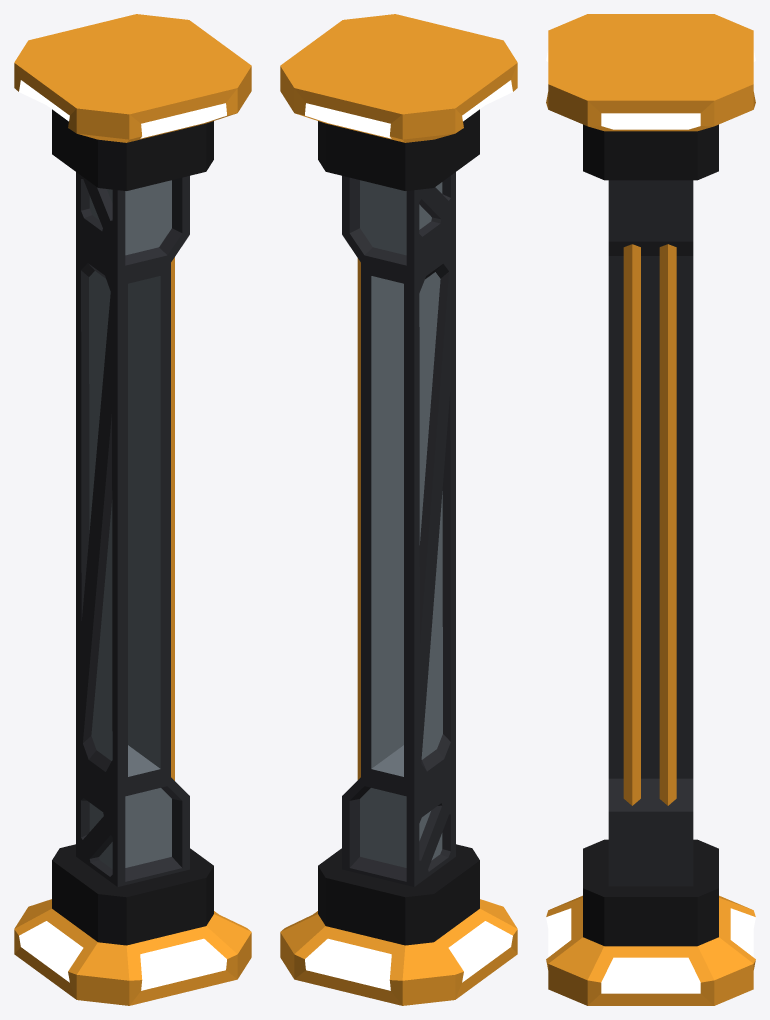
Rendered from SM_Pillar.glb.
3 renders of one model, left to right at view 1: azimuth 30°, elevation 25°; view 2: azimuth 150°, elevation 25°; view 3: azimuth 270°, elevation 25°, orthographic.
Visible parts, largest first — view 1: SM_Pillar; view 2: SM_Pillar; view 3: SM_Pillar.
Boxes of the visible parts, x1,y1,x2,y2 form: SM_Pillar: (14,14,251,1005); SM_Pillar: (280,14,517,1005); SM_Pillar: (546,14,755,1005).
Size of the model in its own units: 1.05 by 5 by 1.05.
2 materials, 1 textured.
